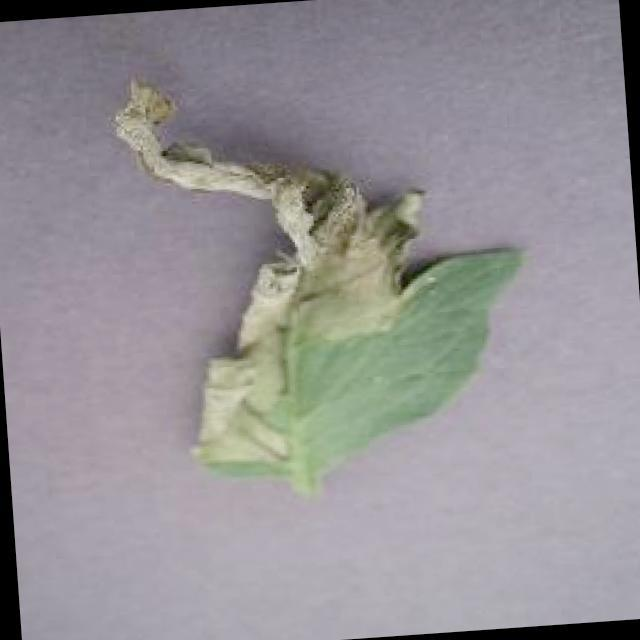Tomato late blight leaf: (108, 55, 536, 490)
